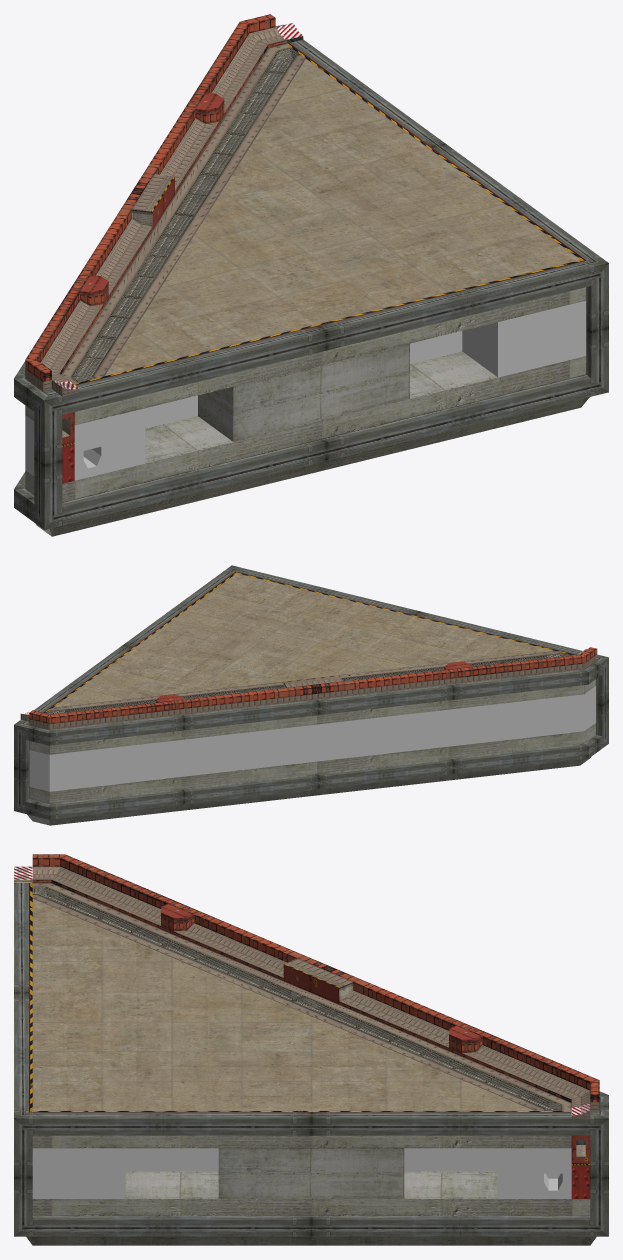
File: WTP_H_Flat_L.fbx
3 renders of one model, top to bottom at view 1: azimuth 30°, elevation 25°; view 2: azimuth 150°, elevation 25°; view 3: azimuth 270°, elevation 25°, orthographic. The views are drawn at different scales.
Parts seen in each view (by area): view 1: WTP_H_Flat_L_Lod0; view 2: WTP_H_Flat_L_Lod0; view 3: WTP_H_Flat_L_Lod0.
Part boxes in pixels (x1=…): WTP_H_Flat_L_Lod0: x1=14, y1=14, x2=608, y2=536; WTP_H_Flat_L_Lod0: x1=14, y1=565, x2=608, y2=825; WTP_H_Flat_L_Lod0: x1=14, y1=854, x2=608, y2=1245.
Size of the model in its own units: 32 by 9 by 32.
